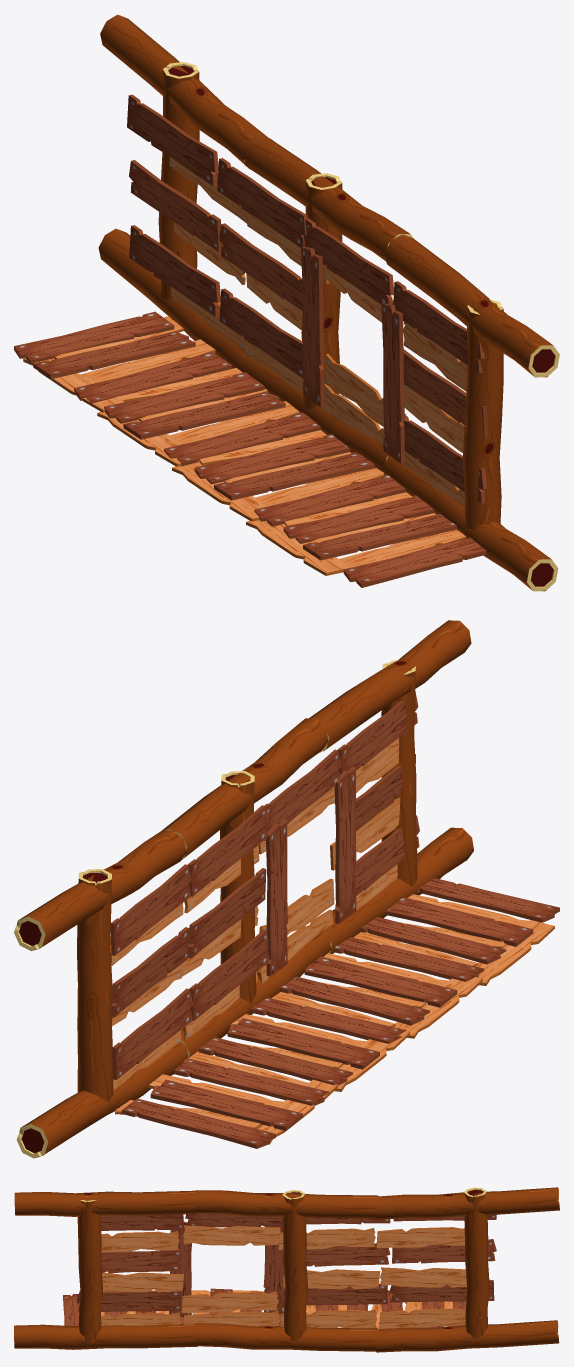
Rendered from Looby.fbx.
3 renders of one model, top to bottom at view 1: azimuth 30°, elevation 25°; view 2: azimuth 150°, elevation 25°; view 3: azimuth 270°, elevation 25°, orthographic. The views are drawn at different scales.
Parts seen in each view (by area): view 1: Tablon (×2), Troncos; view 2: Tablon (×2), Troncos; view 3: Tablon (×2), Troncos.
Part boxes in pixels (x1,y1,x2,y2): Tablon (×2): (14,94,488,587); Troncos: (98,14,559,591); Tablon (×2): (109,691,559,1148); Troncos: (14,620,473,1158); Tablon (×2): (63,1213,496,1329); Troncos: (14,1187,559,1352).
Size of the model in its own units: 92.1 by 122 by 367.
